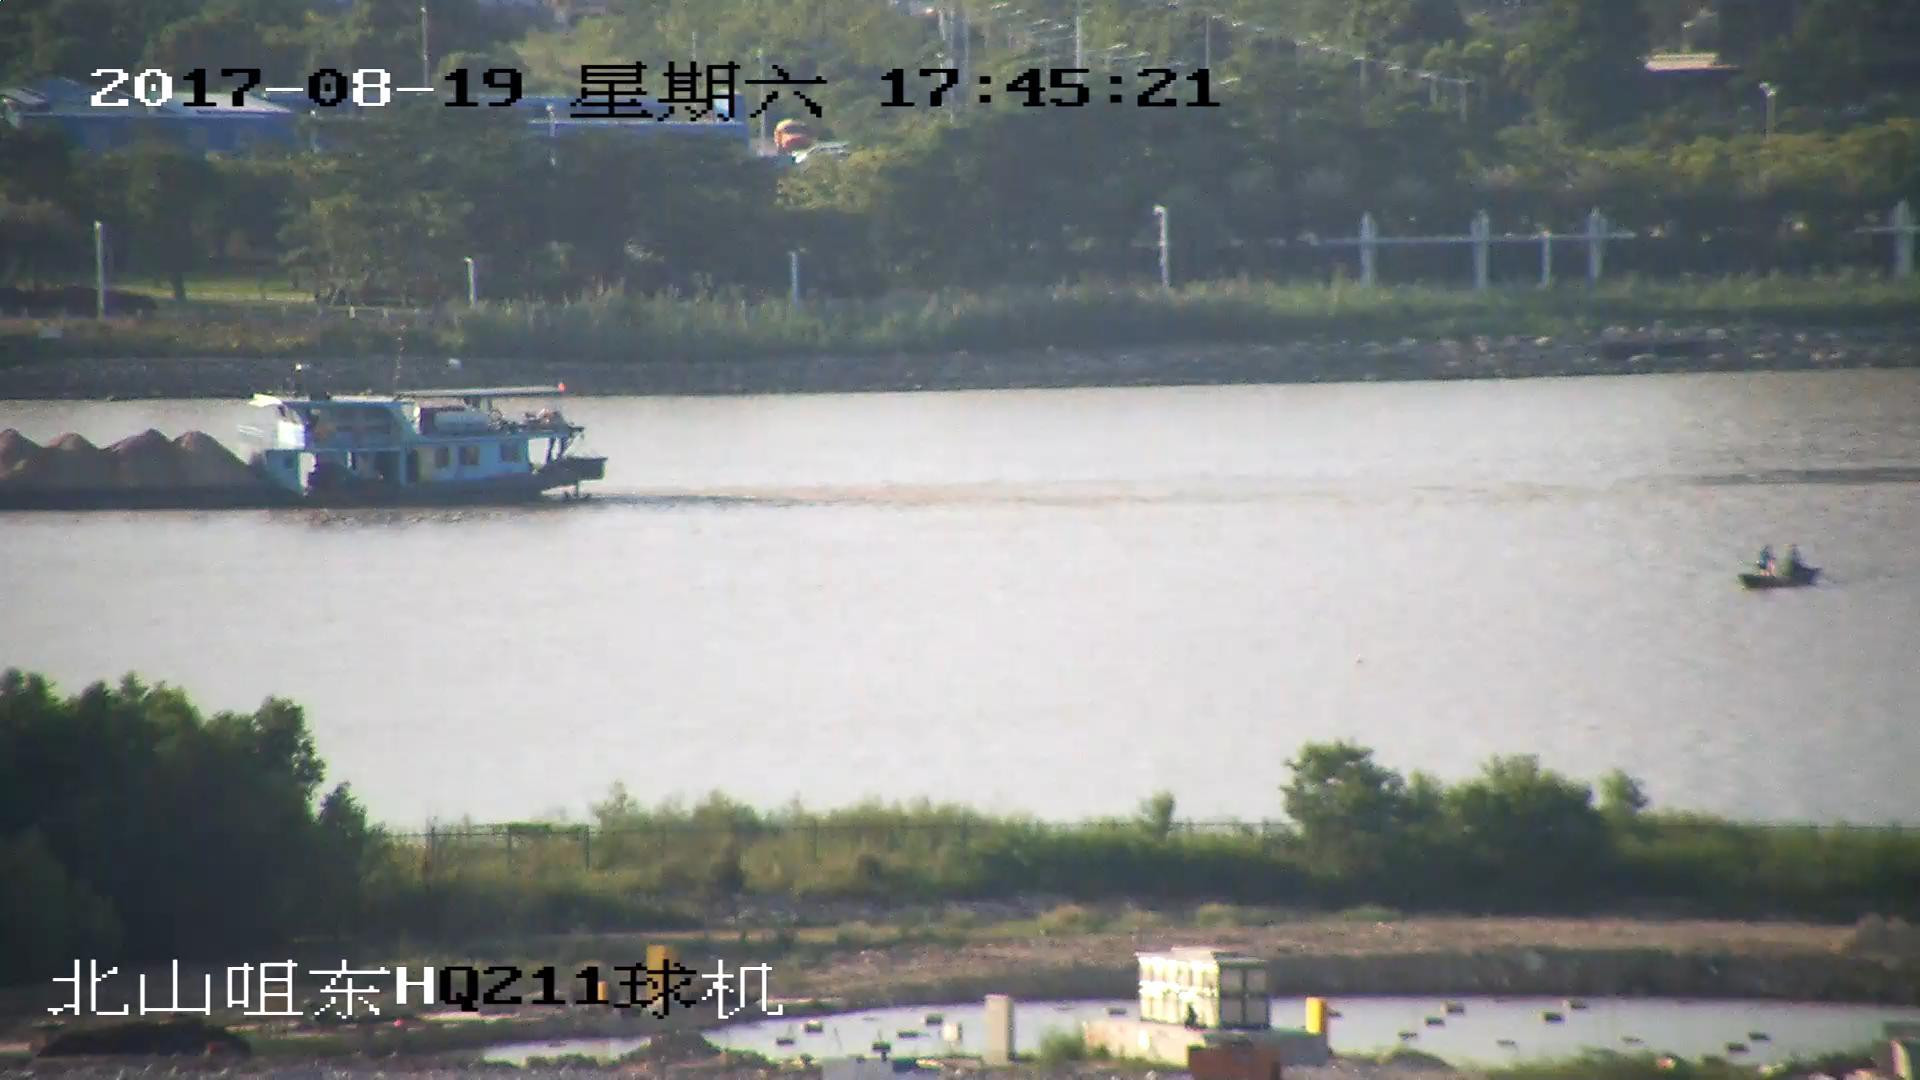Ship: (3, 365, 611, 513), (1739, 543, 1822, 595)
